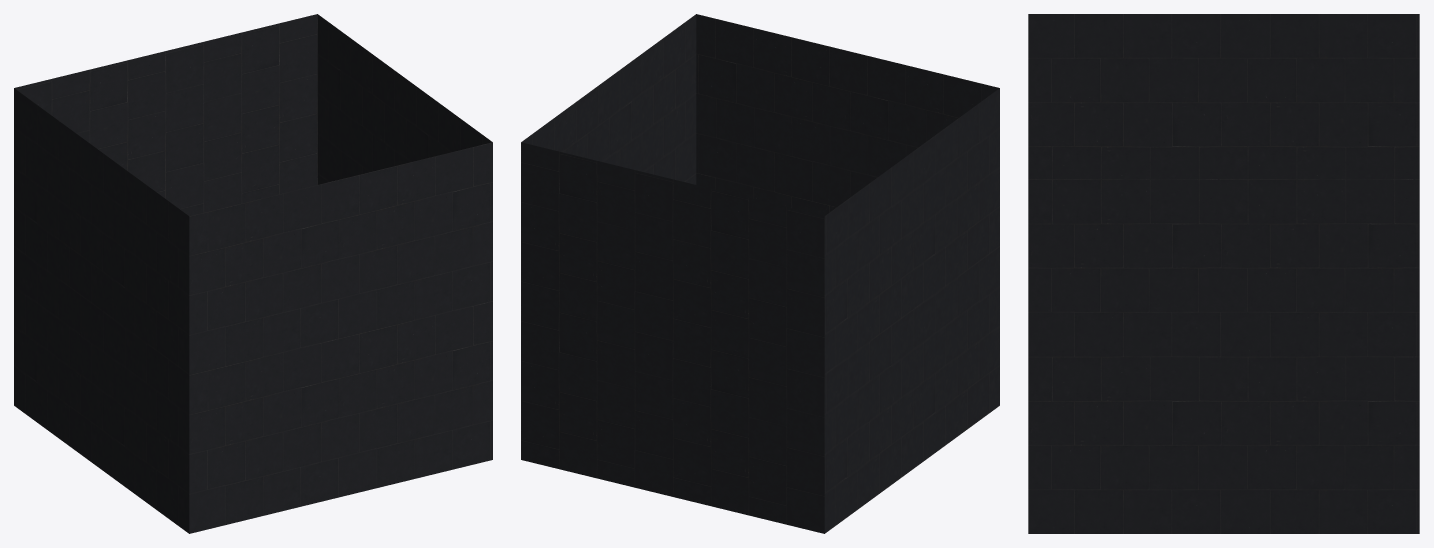
Rendered from room01_壁.glb.
3 renders of one model, left to right at view 1: azimuth 30°, elevation 25°; view 2: azimuth 150°, elevation 25°; view 3: azimuth 270°, elevation 25°, orthographic. The views are drawn at different scales.
Visible parts, largest first — view 1: wall.004, wall.002, wall.001, wall.003; view 2: wall.001, wall.002, wall.004, wall.003; view 3: wall.003, wall.002.
Part boxes in pixels (bbox=[...]): wall.004: bbox=[189, 142, 492, 533]; wall.002: bbox=[14, 88, 189, 533]; wall.001: bbox=[14, 14, 317, 216]; wall.003: bbox=[317, 14, 492, 184]; wall.001: bbox=[521, 142, 824, 533]; wall.002: bbox=[824, 88, 999, 533]; wall.004: bbox=[696, 14, 999, 216]; wall.003: bbox=[521, 14, 696, 184]; wall.003: bbox=[1028, 179, 1419, 533]; wall.002: bbox=[1028, 14, 1419, 179].
Size of the model in its own units: 8 by 8 by 8.
5 materials, 5 textured.
